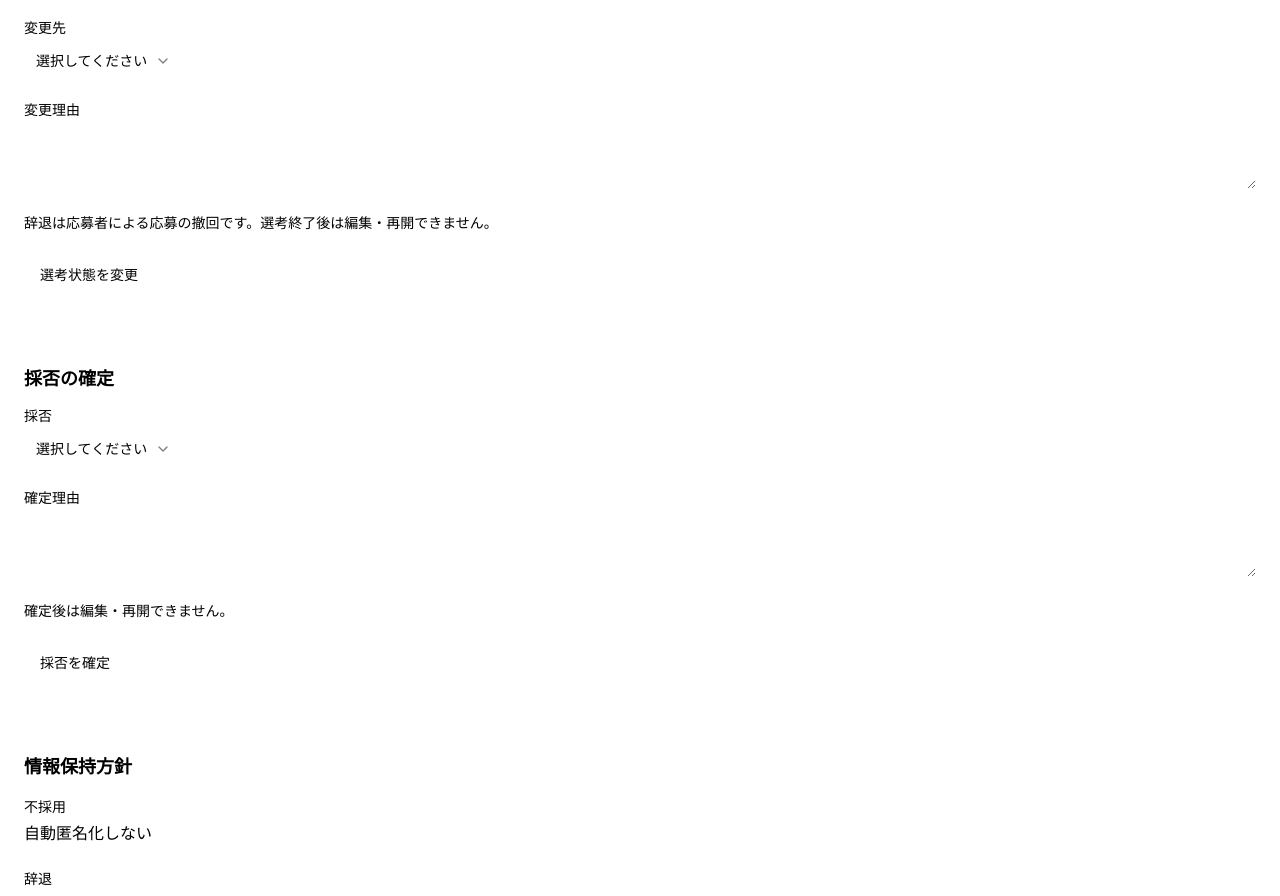
Test case: 面接済なら採用を選べる
This screenshot has width=1280, height=896.
(page scrolled)
Click the dropdown named "採否" at [104, 449], box [24,431,183,467]
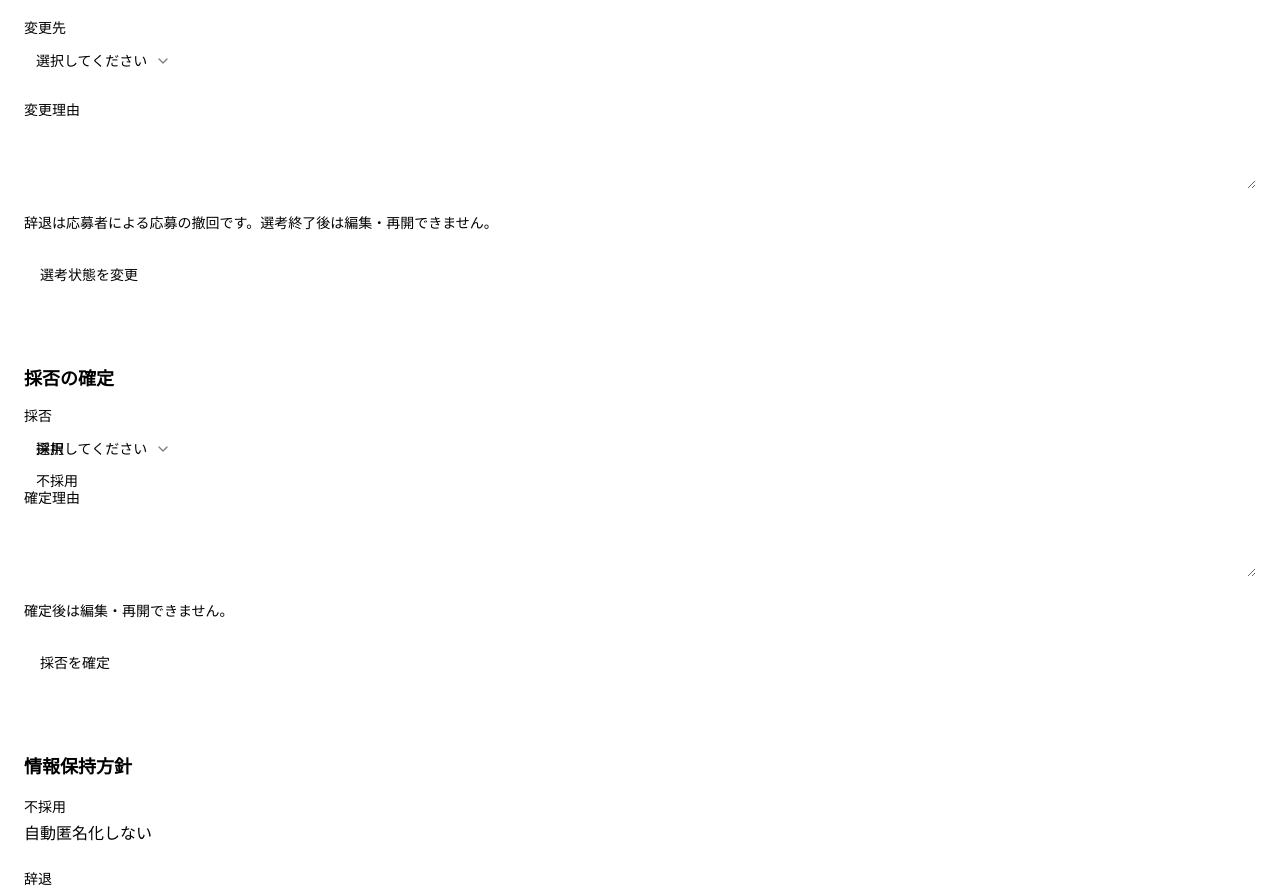
Now the option "採用" is shown, box [36,440,64,457]
Now the option "不採用" is shown, box [36,472,78,489]
